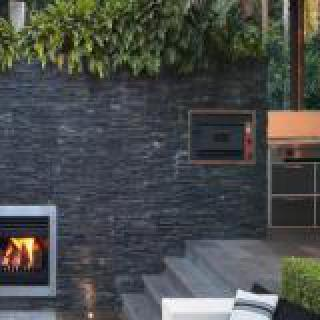fire: (0, 228, 40, 276)
